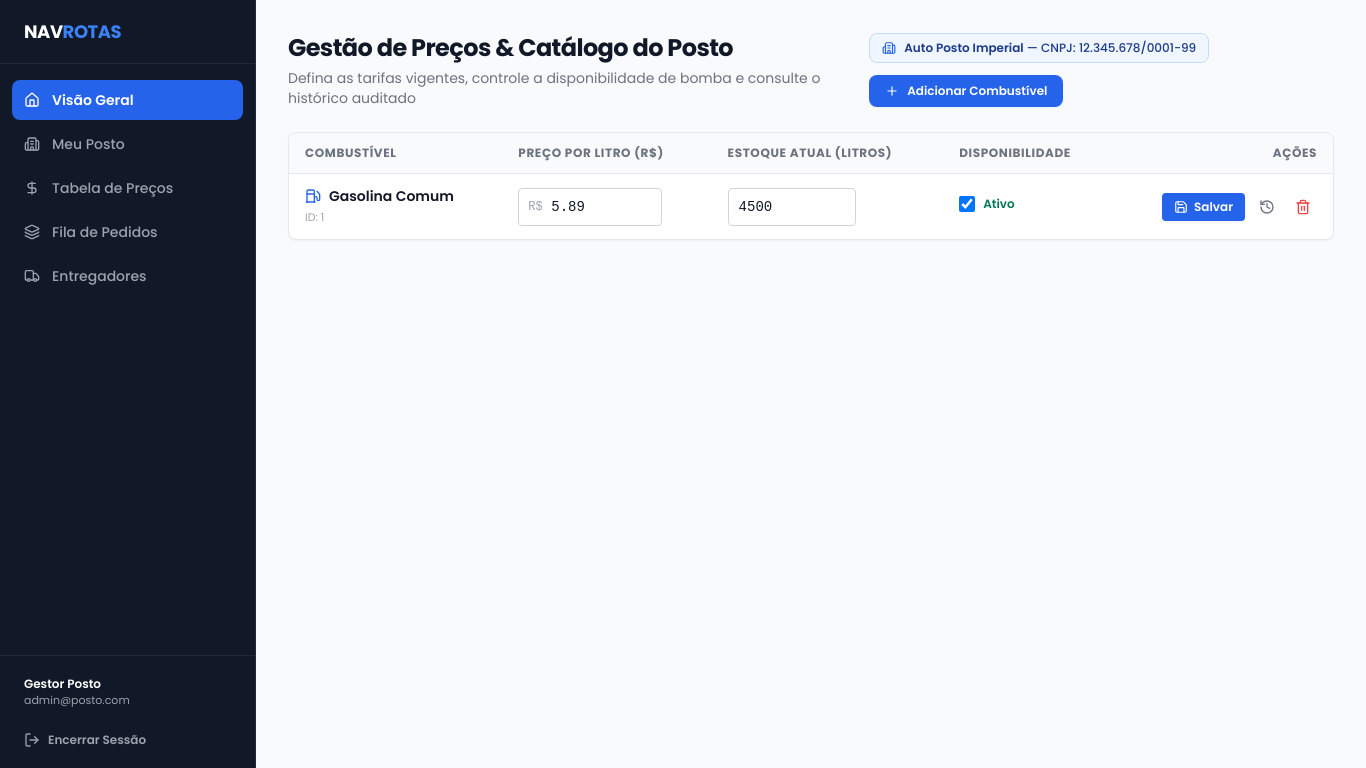
Test case: PostoCatalogoPage › abre o modal de histórico de reajustes auditado
Expected: the text "Gasolina Comum" is shown, [329,186,454,206]
Click the button titled "Histórico de Reajustes".
click(1267, 206)  # box [1253,192,1281,220]
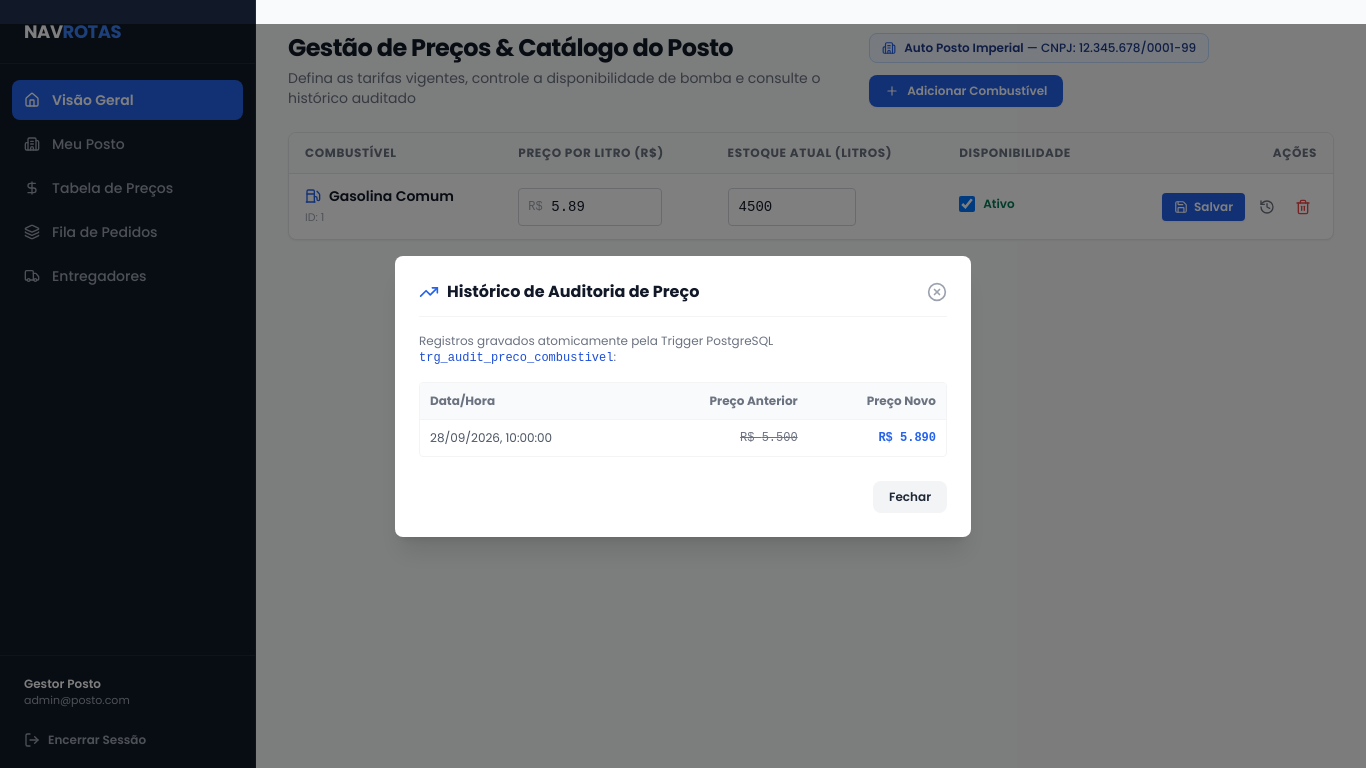
Now the heading "Histórico de Auditoria de Preço" is shown, box [447,280,699,304]
Now the text "trg_audit_preco_combustivel" is shown, box [419,350,613,364]
